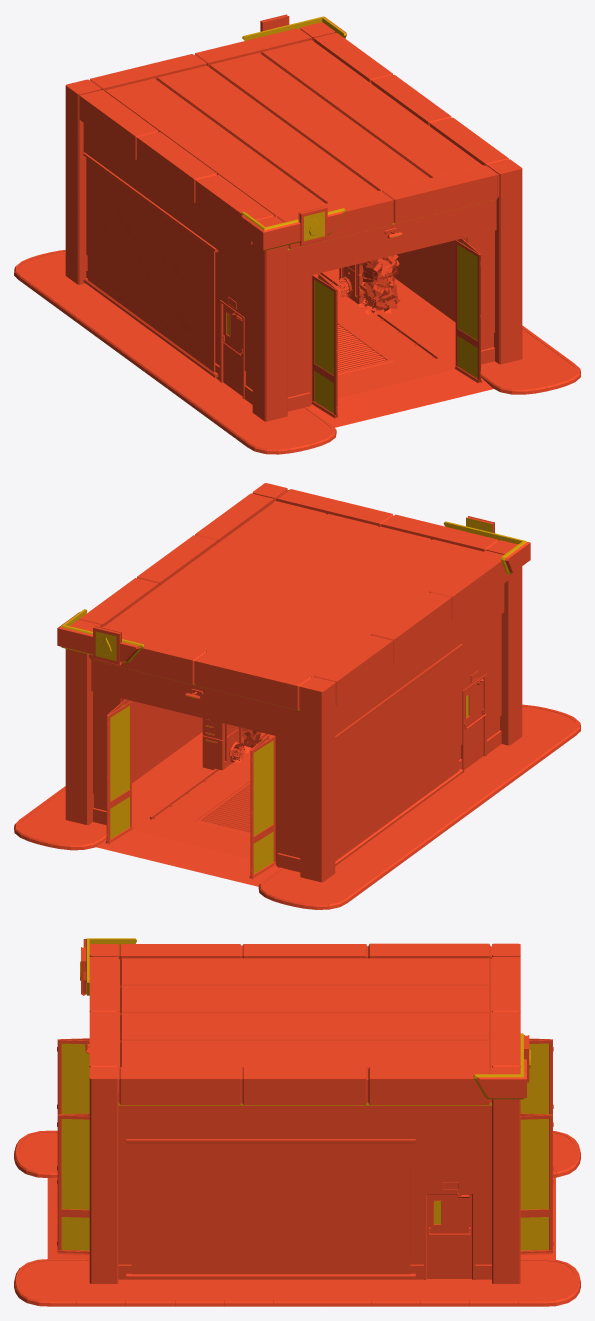
Rendered from SM_Car_Wash_City.fbx.
3 views of the same model, one above another, from view 1: azimuth 30°, elevation 25°; view 2: azimuth 150°, elevation 25°; view 3: azimuth 270°, elevation 25° (orthographic). The views are drawn at different scales.
Parts seen in each view (by area): view 1: SM_Car_Wash_City_Base, SM_Car_Wash_City_Brush_L, SM_Car_Wash_City_Terminal; view 2: SM_Car_Wash_City_Base, SM_Car_Wash_City_Terminal; view 3: SM_Car_Wash_City_Base.
Part boxes in pixels (x1=…): SM_Car_Wash_City_Base: x1=14, y1=14, x2=580, y2=454; SM_Car_Wash_City_Brush_L: x1=357, y1=254, x2=400, y2=315; SM_Car_Wash_City_Terminal: x1=339, y1=264, x2=365, y2=304; SM_Car_Wash_City_Base: x1=14, y1=483, x2=580, y2=909; SM_Car_Wash_City_Terminal: x1=202, y1=718, x2=242, y2=770; SM_Car_Wash_City_Base: x1=14, y1=938, x2=580, y2=1306.
Bounding box in the file's own units: 9.07 × 5.44 × 12.57.
